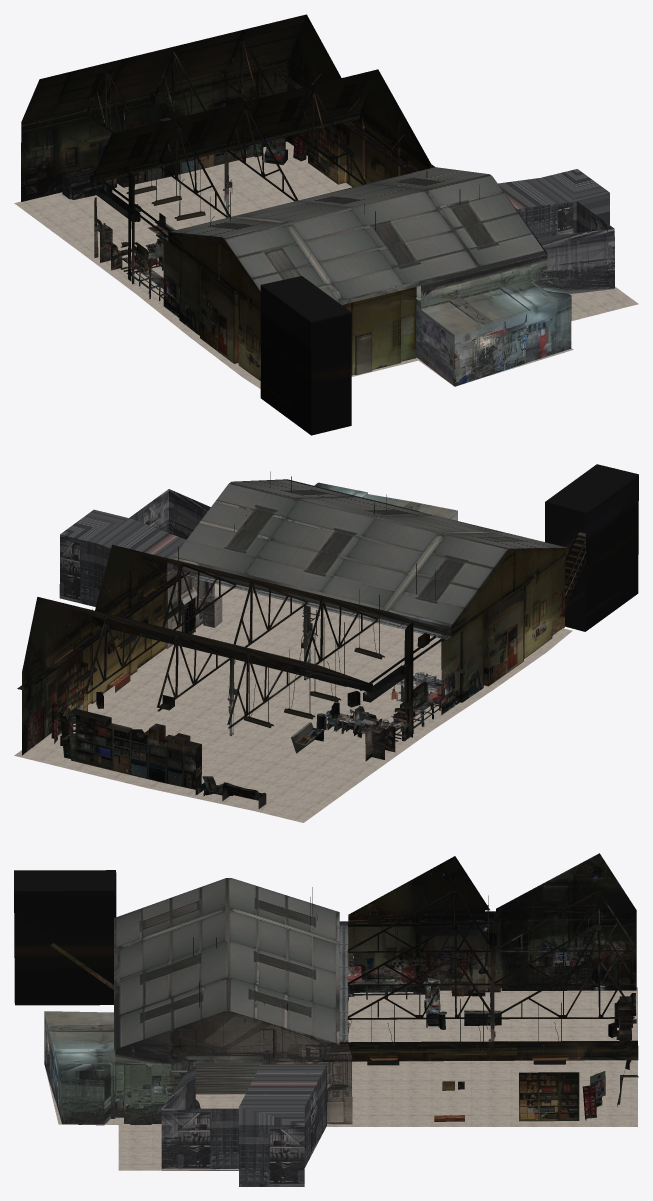
The model's file is garage_nfs_2015.glb.
3 views of the same model, one above another, from view 1: azimuth 30°, elevation 25°; view 2: azimuth 150°, elevation 25°; view 3: azimuth 270°, elevation 25° (orthographic). The views are drawn at different scales.
Visible parts, largest first — view 1: Object_5, Object_6, Object_2; view 2: Object_5, Object_6, Object_2, Object_4; view 3: Object_5, Object_6, Object_2.
Part boxes in pixels (x1,y1,x2,y2): Object_5: (85,74,614,435); Object_6: (21,14,438,300); Object_2: (14,141,638,388); Object_5: (59,464,638,728); Object_6: (17,515,444,808); Object_2: (14,583,572,822); Object_4: (227,602,319,735); Object_5: (14,870,598,1186); Object_6: (264,853,638,1121); Object_2: (45,987,637,1170).
Size of the model in its own units: 1.91 by 0.7756 by 2.5.
Materials: 5 (5 with a texture image).
